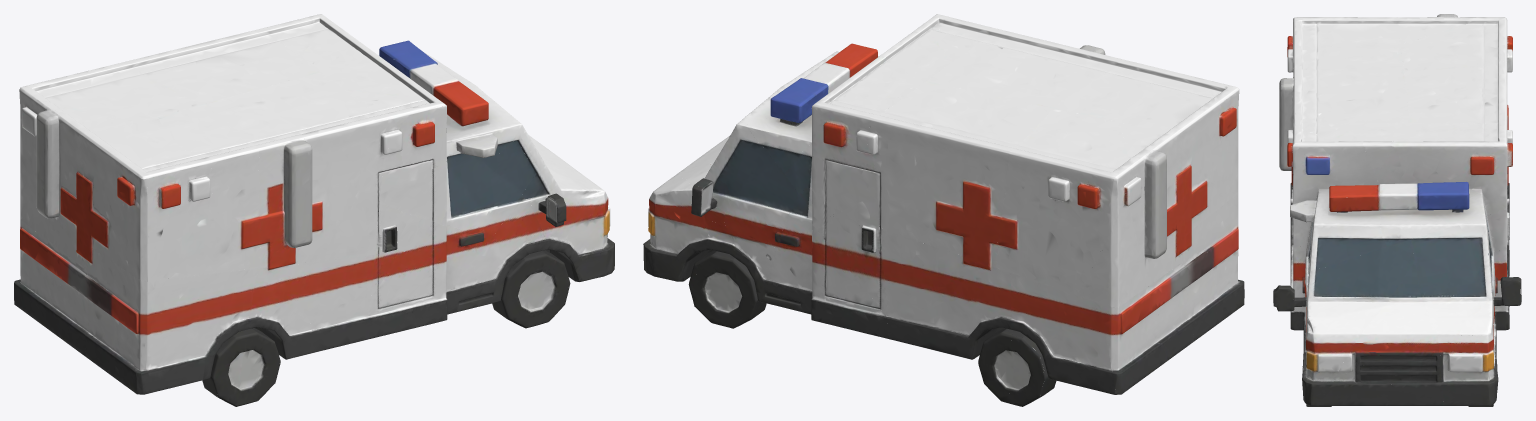
File: ambulance-optimized.glb
3 renders of one model, left to right at view 1: azimuth 30°, elevation 25°; view 2: azimuth 150°, elevation 25°; view 3: azimuth 270°, elevation 25°, orthographic. The views are drawn at different scales.
Visible parts, largest first — view 1: tripo_node_ba91b201-9639-432b-9d4d-39b7c5cfaea3; view 2: tripo_node_ba91b201-9639-432b-9d4d-39b7c5cfaea3; view 3: tripo_node_ba91b201-9639-432b-9d4d-39b7c5cfaea3.
Boxes of the visible parts, x1,y1,x2,y2 form: tripo_node_ba91b201-9639-432b-9d4d-39b7c5cfaea3: (14, 14, 614, 406); tripo_node_ba91b201-9639-432b-9d4d-39b7c5cfaea3: (643, 14, 1244, 406); tripo_node_ba91b201-9639-432b-9d4d-39b7c5cfaea3: (1273, 14, 1521, 406).
Bounding box in the file's own units: 1 × 0.4875 × 0.5038.
Materials: 1 (1 with a texture image).
